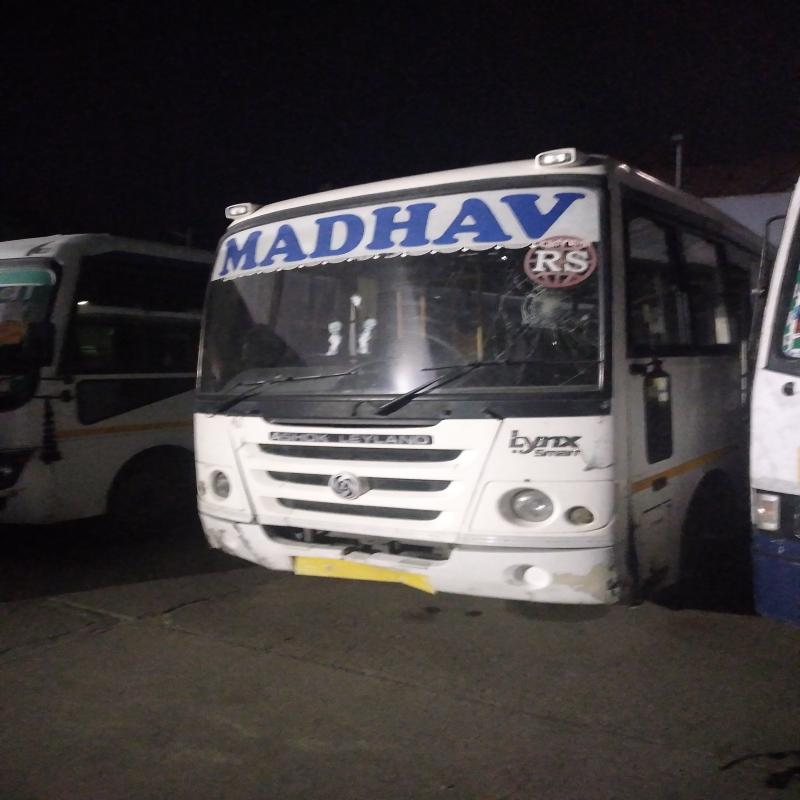bus: (175, 196, 663, 584)
